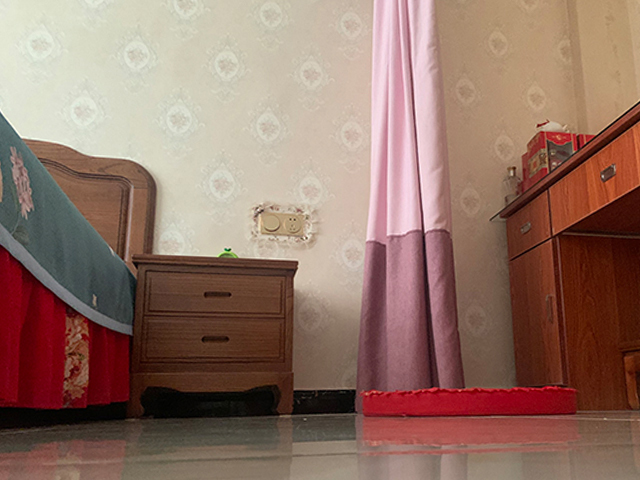bed: (1, 112, 157, 423)
cabinet: (126, 253, 299, 416)
curtain: (354, 1, 464, 415)
table: (489, 100, 640, 411)
